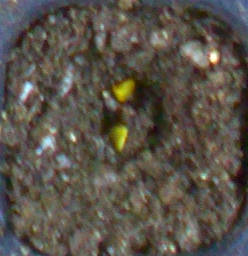chilli seed: (113, 80, 135, 102), (113, 124, 128, 151)
